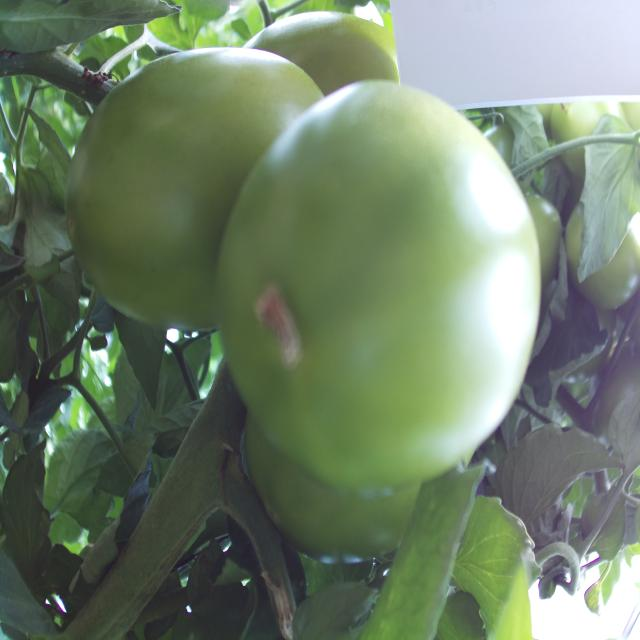yesil: (63, 42, 560, 499)
